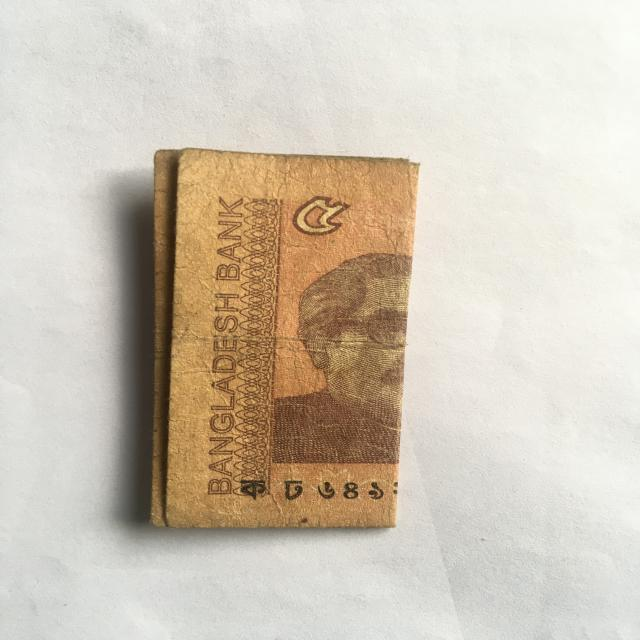Taka: (140, 141, 404, 529)
